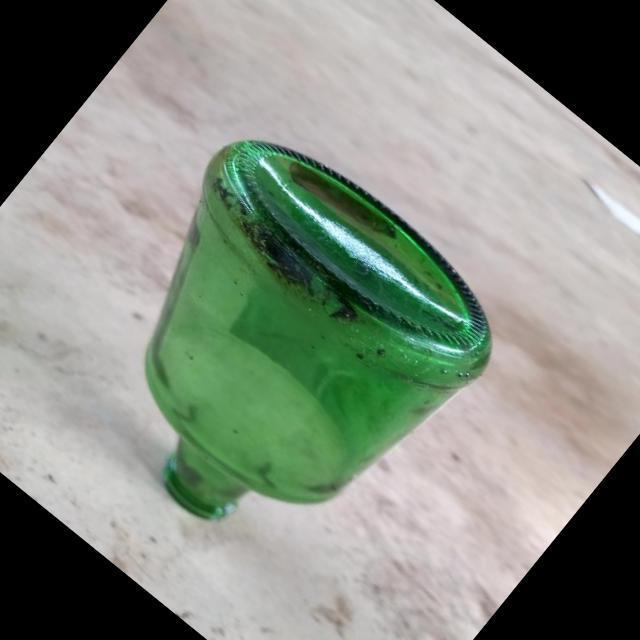Glass: (144, 139, 494, 521)
